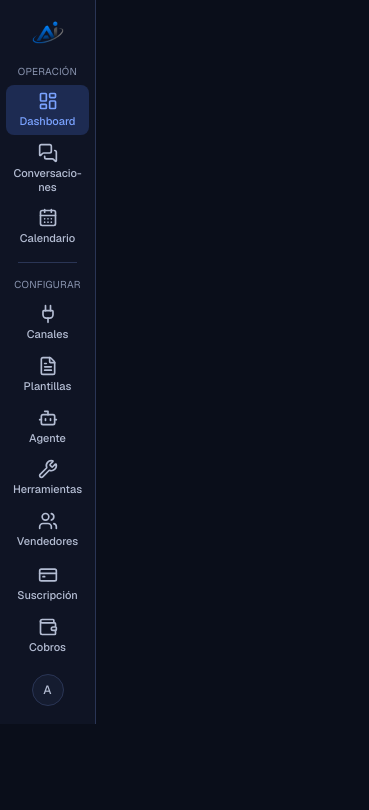
Test: acceso › el panel de cuenta del sidebar tiene el botón, expandido
The image size is (369, 810).
Expected: the button "Reportar un problema" is not shown
Click the button named "Cuenta": click(48, 690) [26,668,70,712]
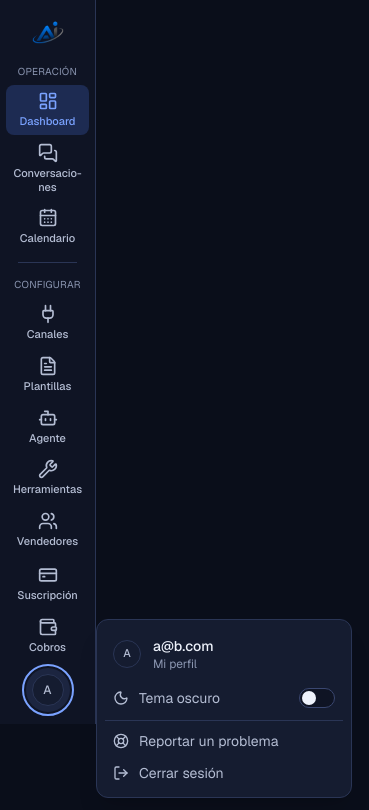
Expected: the button "Reportar un problema" is shown, [105,725,343,757]
Expected: the text "Reportar un problema" is shown, [139,731,278,751]
